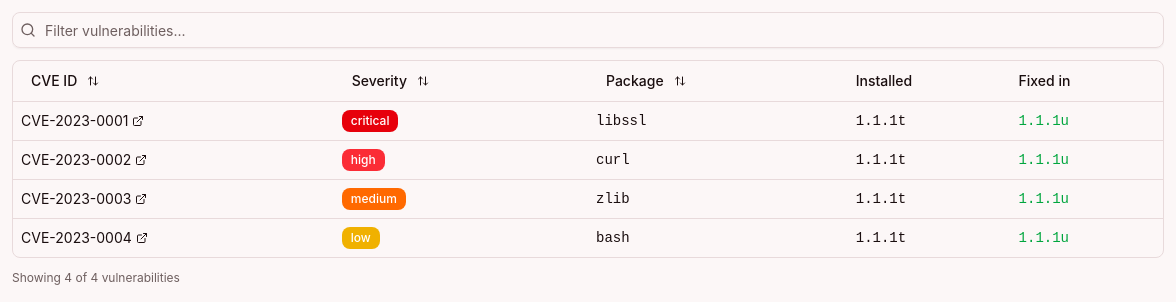
Scenario: ScanResultsTable › shows 'No matching vulnerabilities' when search has no results
Type "xyznotexist" into the field with placeholder "Filter vulnerabilities...". click: (588, 30)
box: x1=12 y1=12 x2=1164 y2=48
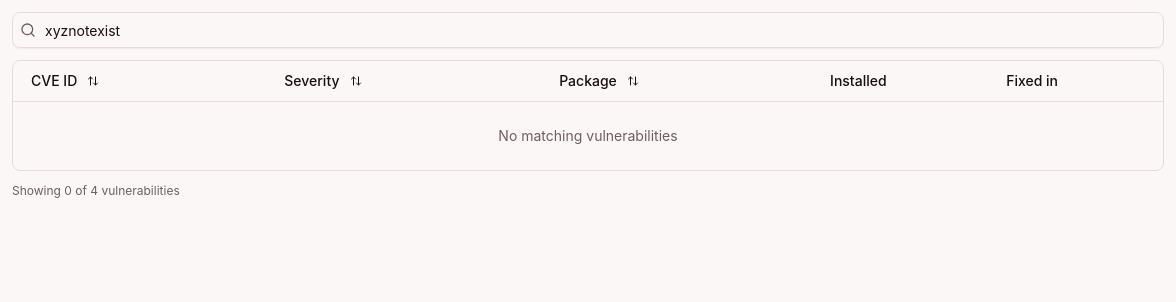
Expected: the text "No matching vulnerabilities" is shown, x1=13 y1=101 x2=1163 y2=170
